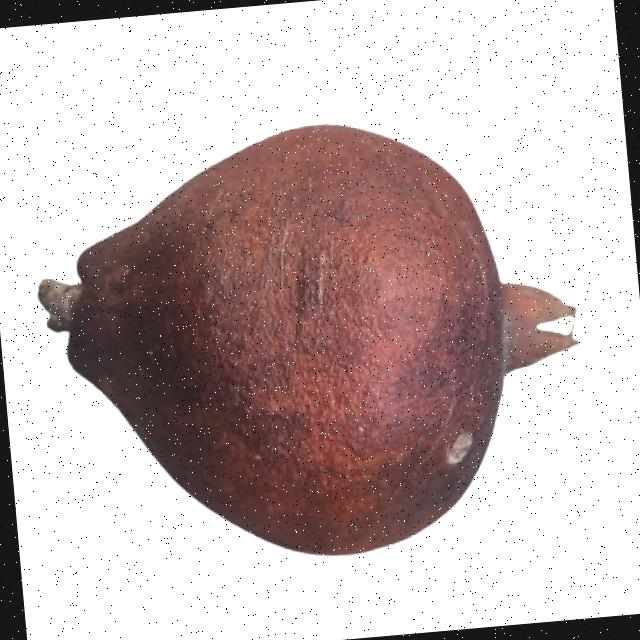Rotten: (25, 92, 596, 579)
